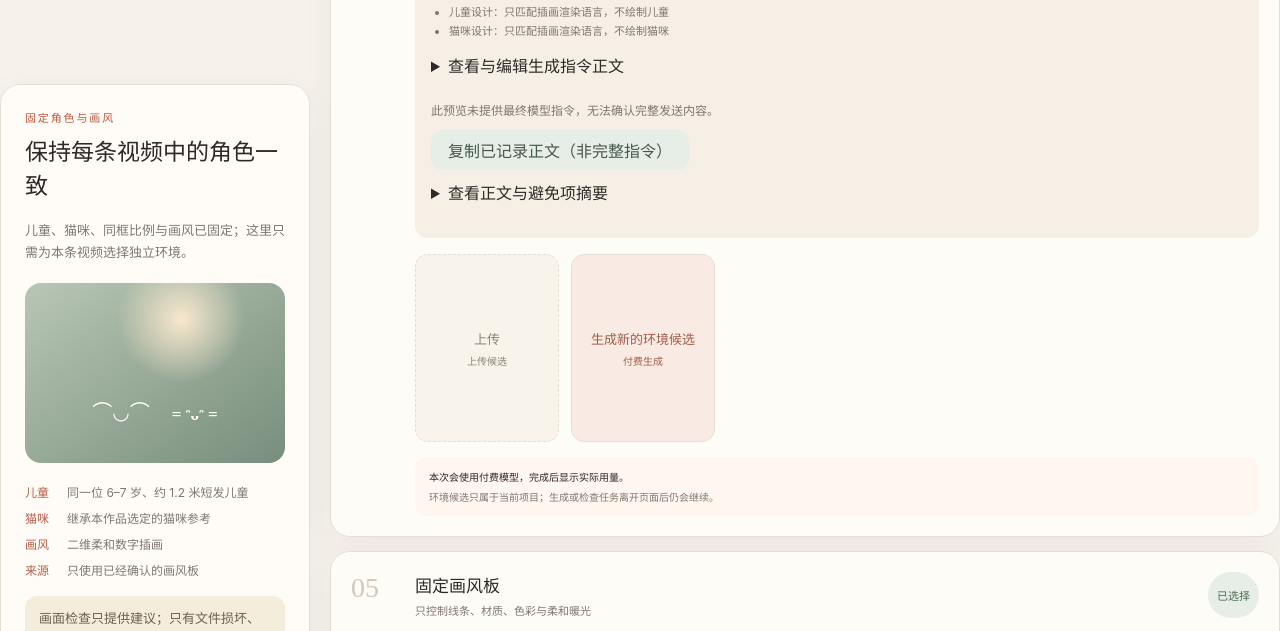
Test: AssetsStep › generates an environment directly without a validation-run confirmation
(page scrolled)
Step 1. Click the button with class "generate-candidate" → (643, 348), box [571,254,715,442]
(page scrolled)
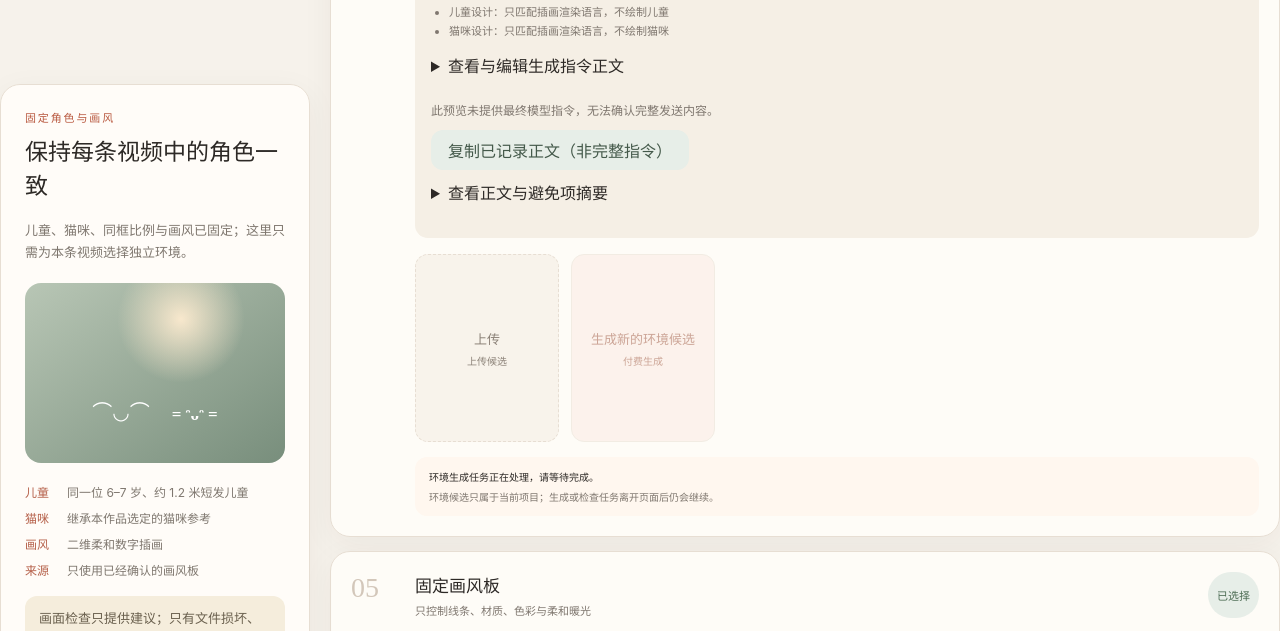
Expected: the button "生成新的环境候选 付费生成" is disabled, [571,254,715,442]
Expected: the text "环境生成任务正在处理" is shown, [429,471,599,483]
